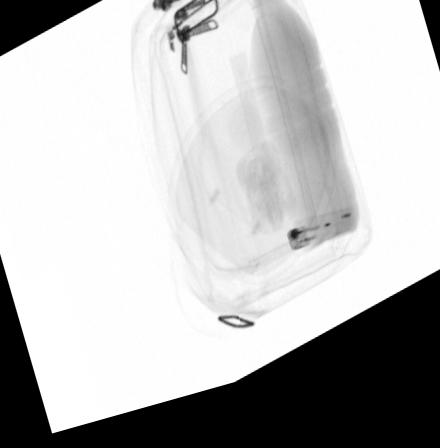Lighter: (285, 224, 355, 267)
